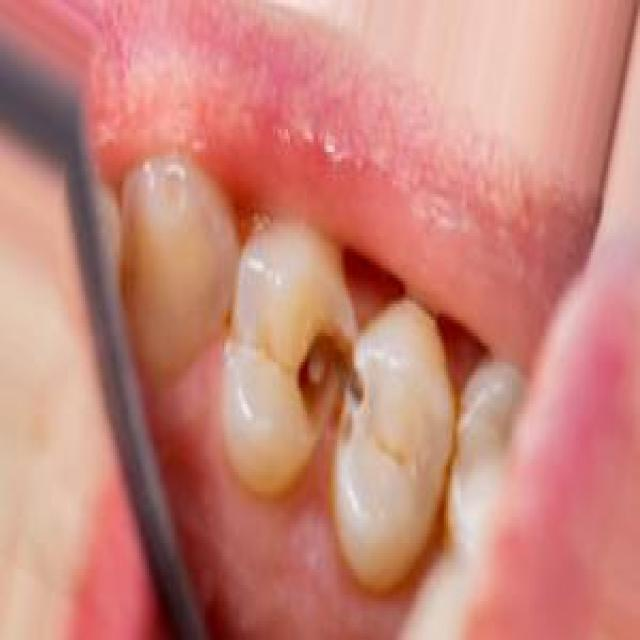caries: (283, 312, 376, 453)
